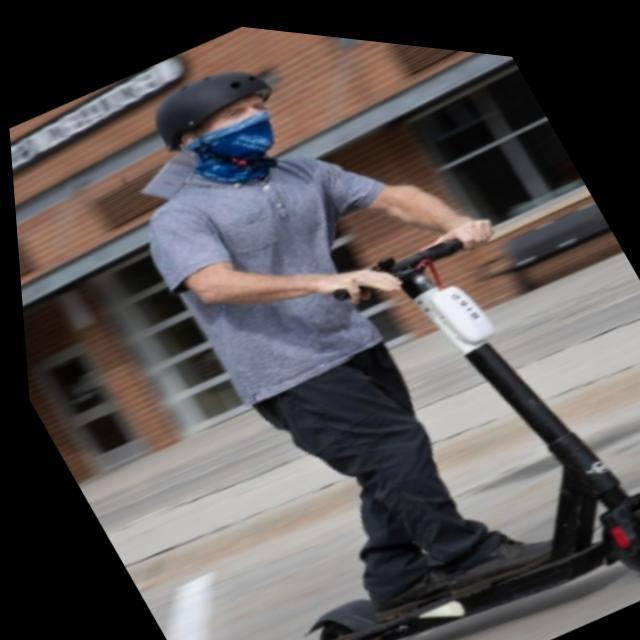Helmet: (152, 66, 284, 186)
